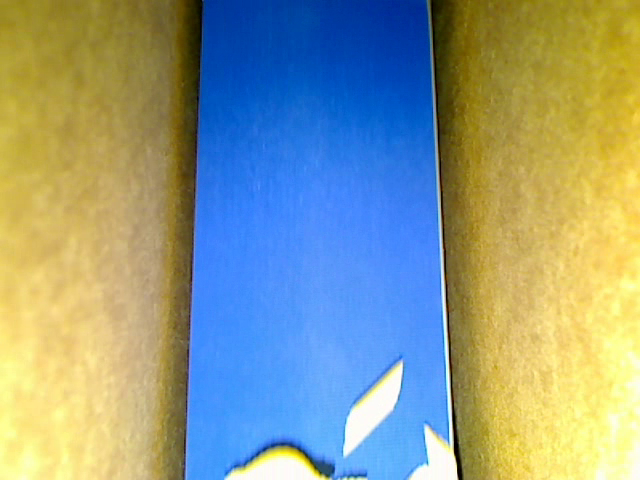penne: (342, 358, 402, 457), (423, 424, 457, 479)
shell: (221, 443, 330, 479)
